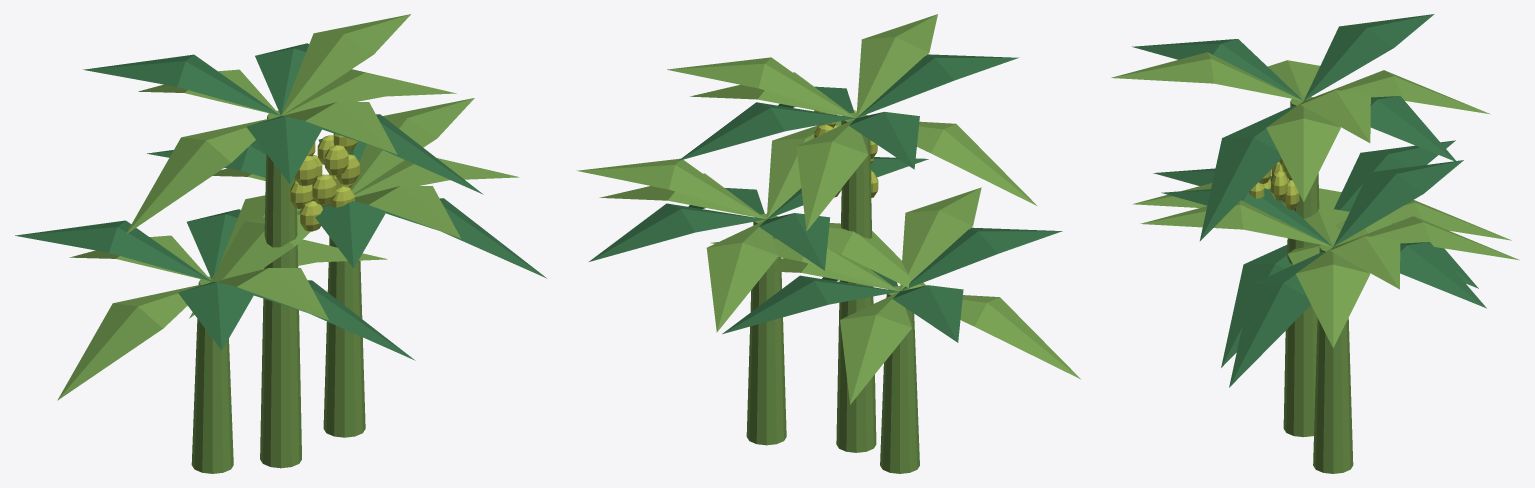
Rendered from 032_banana_clump.glb.
The picture shows the model from 3 angles, left to right: view 1: azimuth 30°, elevation 25°; view 2: azimuth 150°, elevation 25°; view 3: azimuth 270°, elevation 25°; orthographic projection. The views are drawn at different scales.
Visible parts, largest first — view 1: Banana clump; view 2: Banana clump; view 3: Banana clump.
Boxes of the visible parts, box(x1,y1,x2,y2) form: Banana clump: box(15, 14, 546, 473); Banana clump: box(576, 14, 1080, 473); Banana clump: box(1111, 14, 1519, 473).
Size of the model in its own units: 4 by 3.09 by 3.06.
